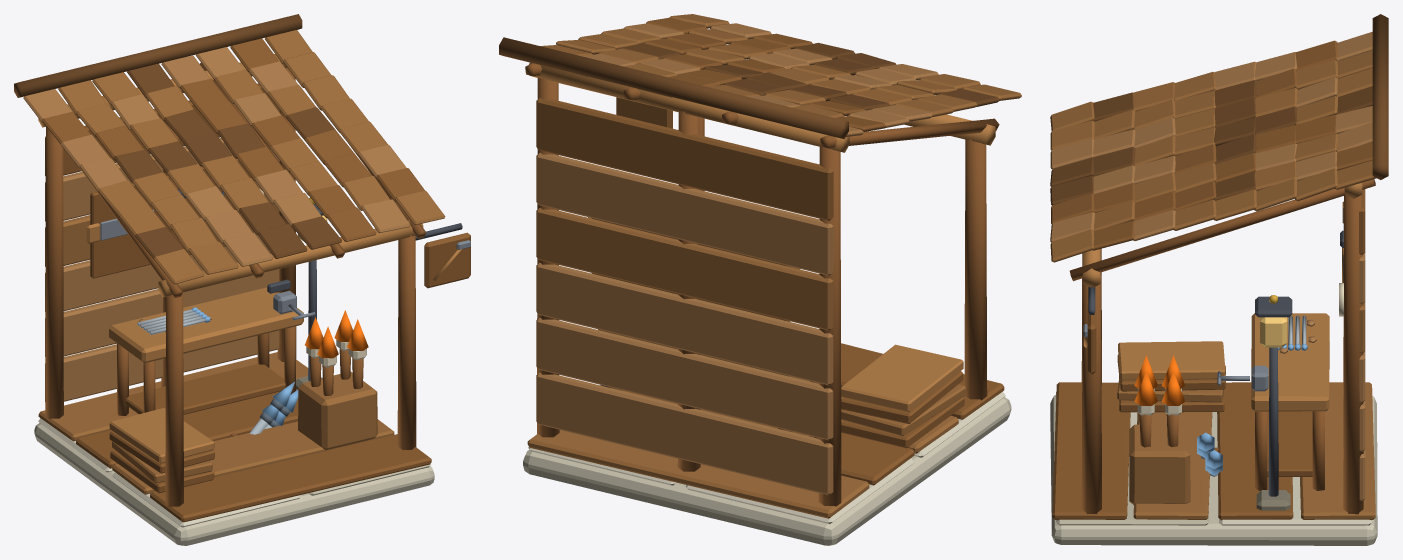
File: atelier.glb
The picture shows the model from 3 angles, left to right: view 1: azimuth 30°, elevation 25°; view 2: azimuth 150°, elevation 25°; view 3: azimuth 270°, elevation 25°; orthographic projection. The views are drawn at different scales.
Visible parts, largest first — view 1: plancher.003, socle, etabli, poteau, mur.001, mur, caisse, faitiere, plancher.002, poteau.003, poteau.004, etabli_traverse (+84 smaller); view 2: mur.005, mur.004, mur.003, mur.002, mur.001, mur, socle, plancher, faitiere, poteau.003, tas.003, poutre.001 (+15 smaller); view 3: socle, plancher.003, plancher.001, etabli, poteau.002, plancher, caisse, poteau.004, tas.003, chevron.003, plancher.002, faitiere (+81 smaller).
Part boxes in pixels (x1=…): plancher.003: x1=150, y1=434, x2=431, y2=522; socle: x1=34, y1=423, x2=434, y2=545; etabli: x1=109, y1=287, x2=303, y2=363; poteau: x1=45, y1=126, x2=63, y2=419; mur.001: x1=45, y1=269, x2=279, y2=356; mur: x1=45, y1=330, x2=279, y2=401; caisse: x1=298, y1=371, x2=377, y2=450; faitiere: x1=14, y1=14, x2=302, y2=97; plancher.002: x1=112, y1=419, x2=394, y2=494; poteau.003: x1=165, y1=292, x2=183, y2=506; poteau.004: x1=397, y1=235, x2=416, y2=449; etabli_traverse: x1=126, y1=363, x2=285, y2=414; mur.005: x1=536, y1=98, x2=833, y2=220; mur.004: x1=536, y1=153, x2=833, y2=275; mur.003: x1=536, y1=208, x2=833, y2=330; mur.002: x1=536, y1=263, x2=833, y2=385; mur.001: x1=536, y1=318, x2=833, y2=440; mur: x1=536, y1=372, x2=833, y2=495; socle: x1=523, y1=397, x2=1011, y2=545; plancher: x1=527, y1=430, x2=869, y2=518; faitiere: x1=499, y1=37, x2=848, y2=139; poteau.003: x1=964, y1=138, x2=987, y2=400; tas.003: x1=841, y1=344, x2=963, y2=412; poutre.001: x1=529, y1=62, x2=849, y2=152; socle: x1=1050, y1=395, x2=1377, y2=545; plancher.003: x1=1052, y1=382, x2=1130, y2=519; plancher.001: x1=1217, y1=382, x2=1293, y2=520; etabli: x1=1251, y1=313, x2=1329, y2=411; poteau.002: x1=1343, y1=190, x2=1363, y2=514; plancher: x1=1300, y1=382, x2=1375, y2=519; caisse: x1=1129, y1=424, x2=1190, y2=504; poteau.004: x1=1081, y1=276, x2=1101, y2=513; tas.003: x1=1118, y1=341, x2=1225, y2=380; chevron.003: x1=1069, y1=179, x2=1375, y2=281; plancher.002: x1=1133, y1=412, x2=1212, y2=519; faitiere: x1=1372, y1=14, x2=1388, y2=179.
Size of the model in its own units: 2.37 by 3 by 1.99.
